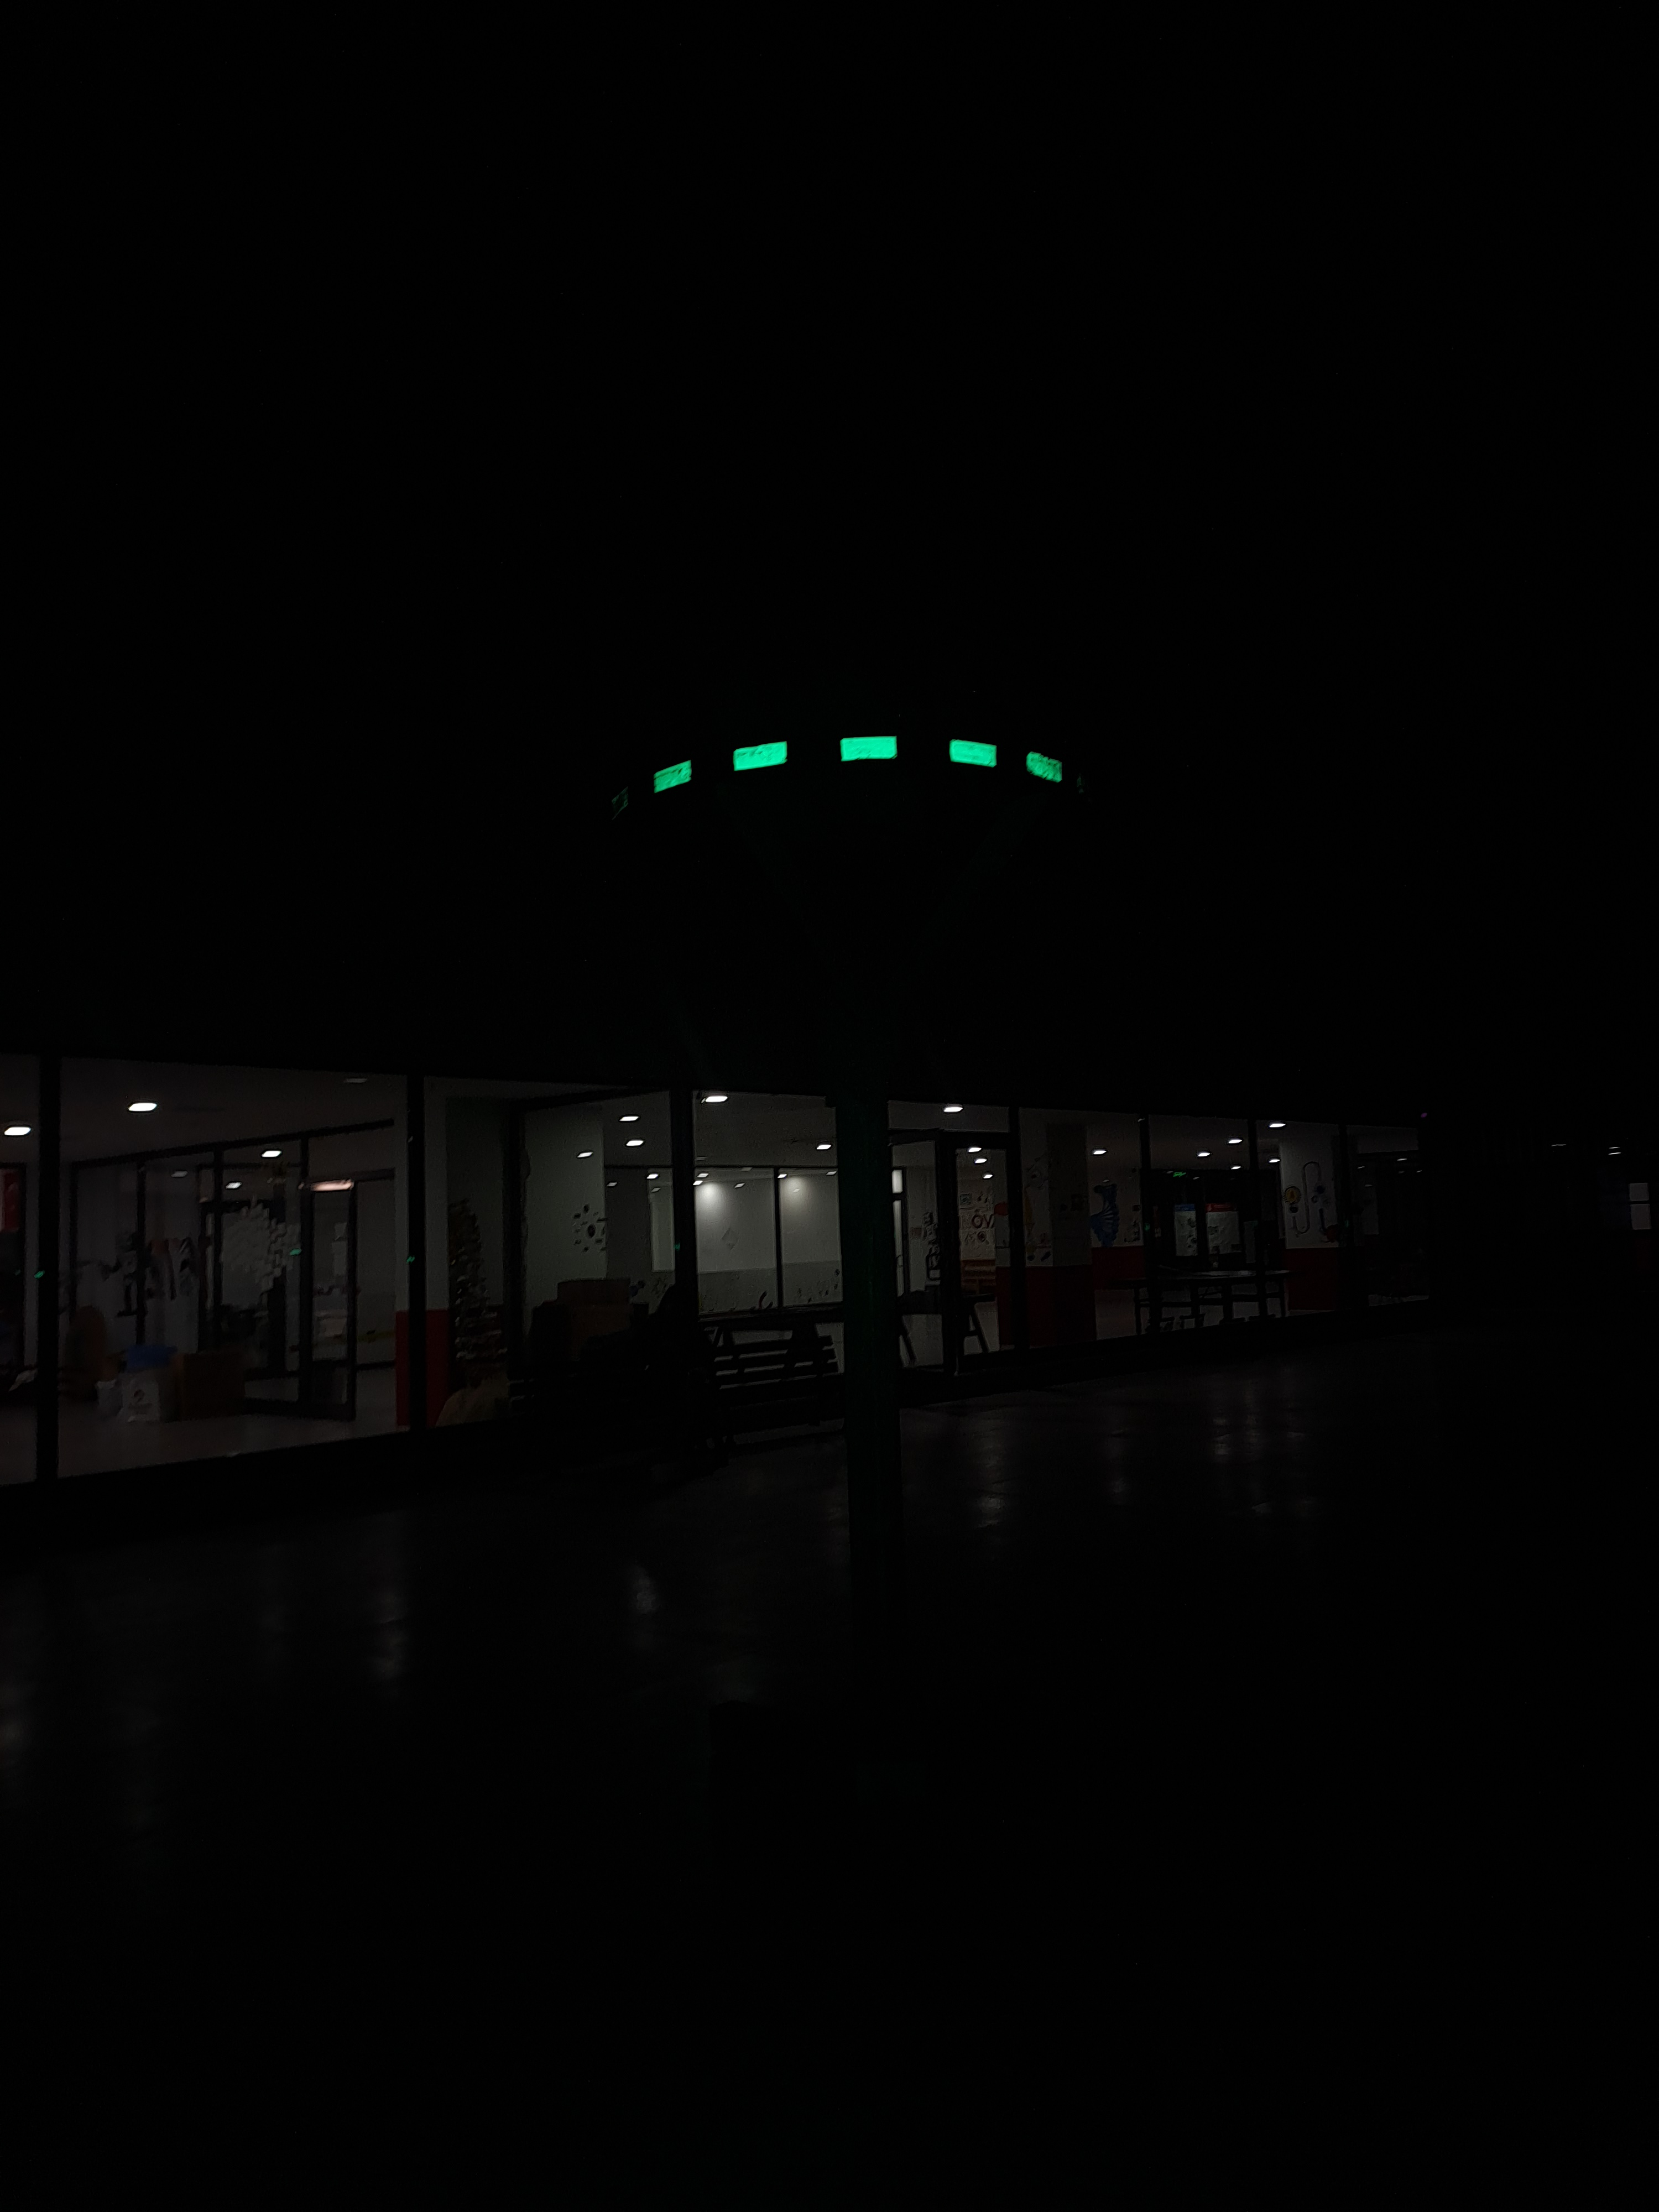hoop: (645, 733, 1070, 801)
